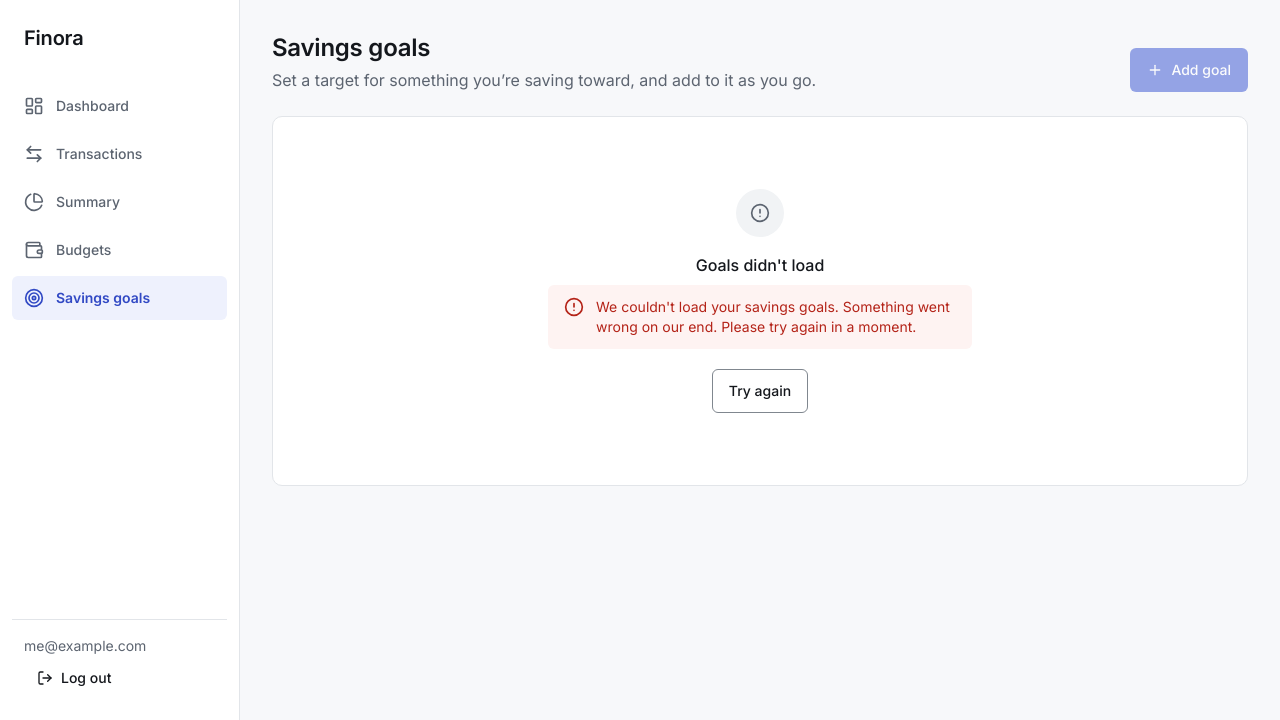
Scenario: the goals page › shows an error with Try again when the server failed, and loads again
Expected: the text "Goals didn't load" is shown, [696,253,824,277]
Expected: the message shows "We couldn't load your savings goals. Something went wrong on our end. Please try again in a moment.", [596,298,950,335]
Click the button "Try again" at (760, 391), box [712,369,808,413]
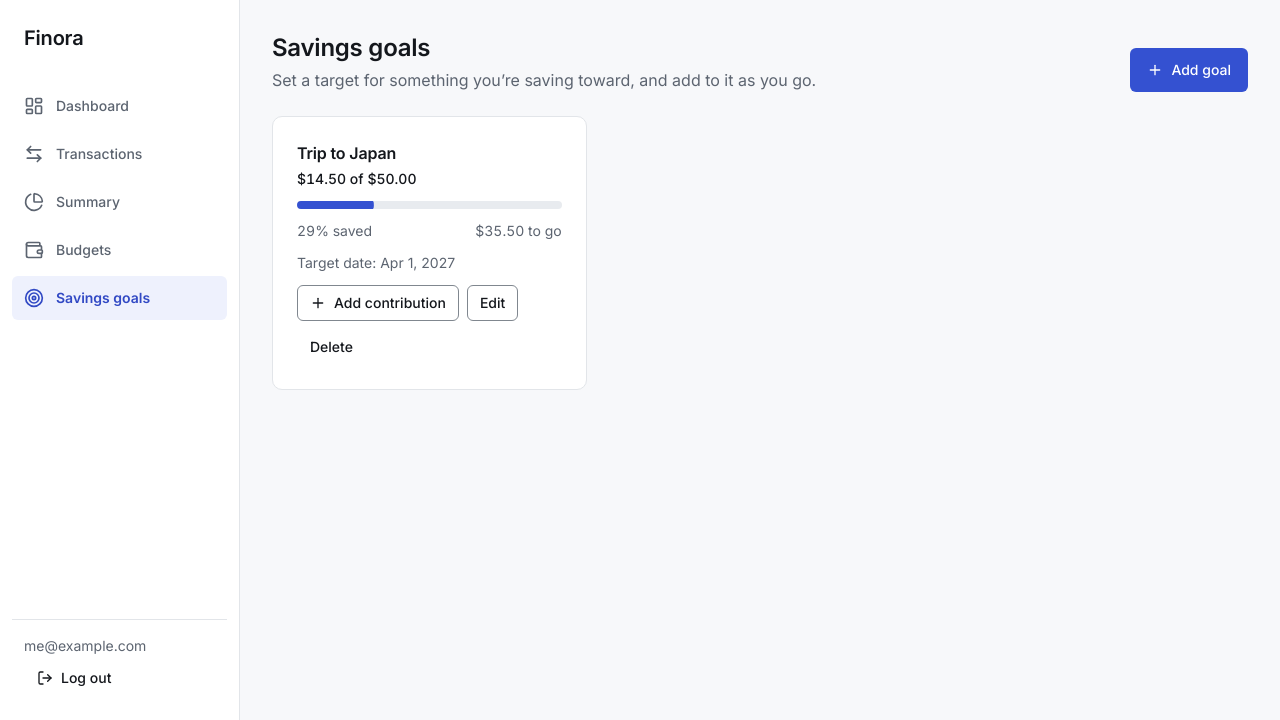
Expected: the heading "Trip to Japan" is shown, [297,143,396,163]
